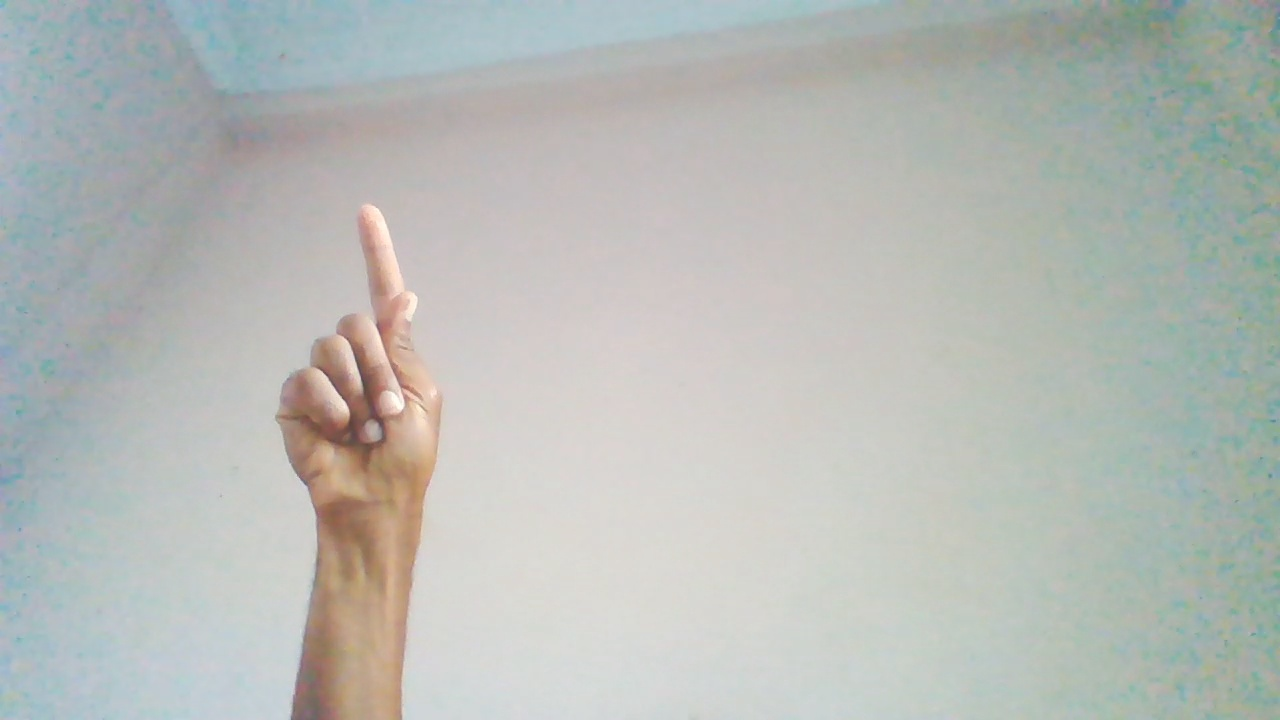ne: (275, 202, 440, 586)
